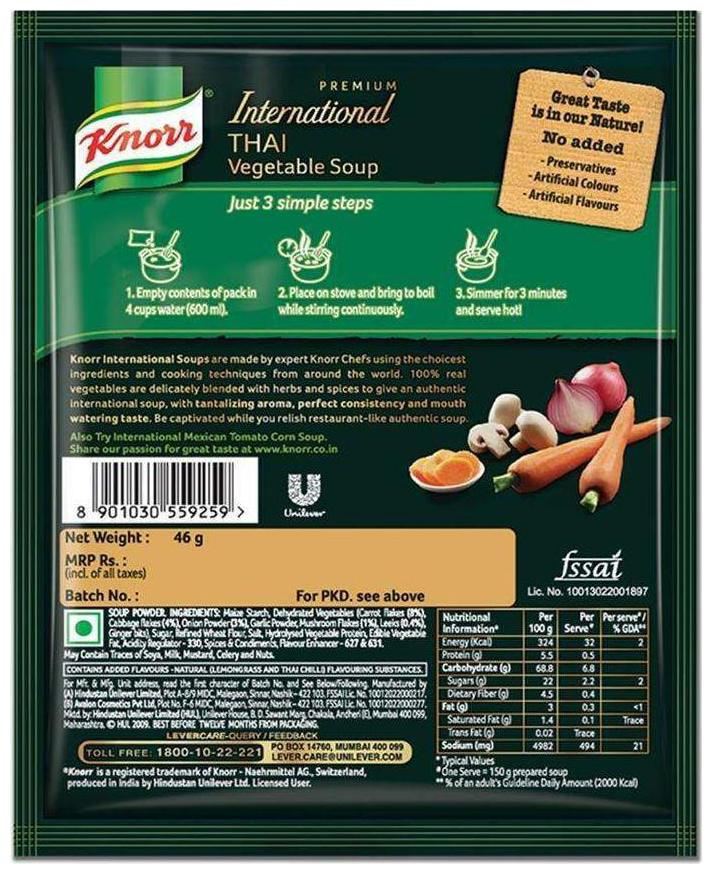fssai: (551, 548, 625, 583)
